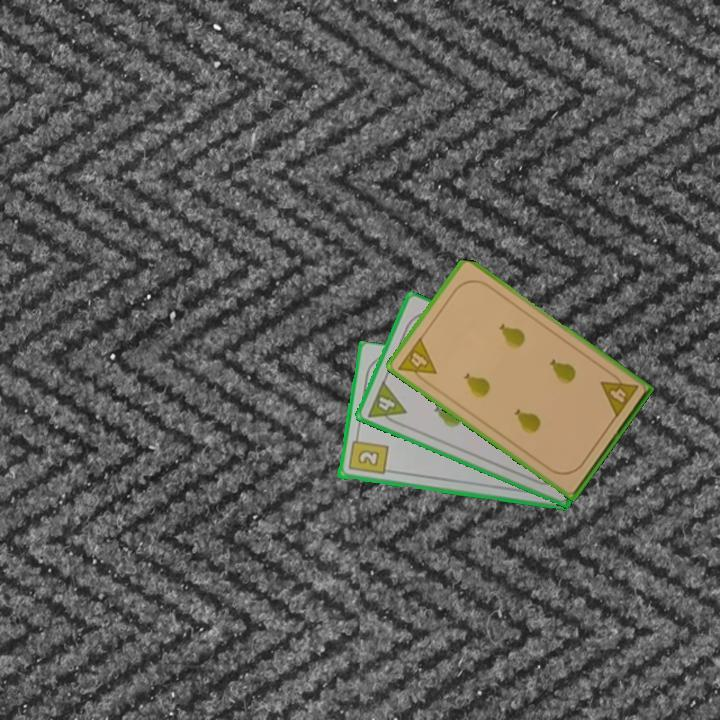2b: (345, 431, 390, 477)
4p: (394, 334, 440, 388), (364, 377, 409, 429), (597, 368, 641, 421)
